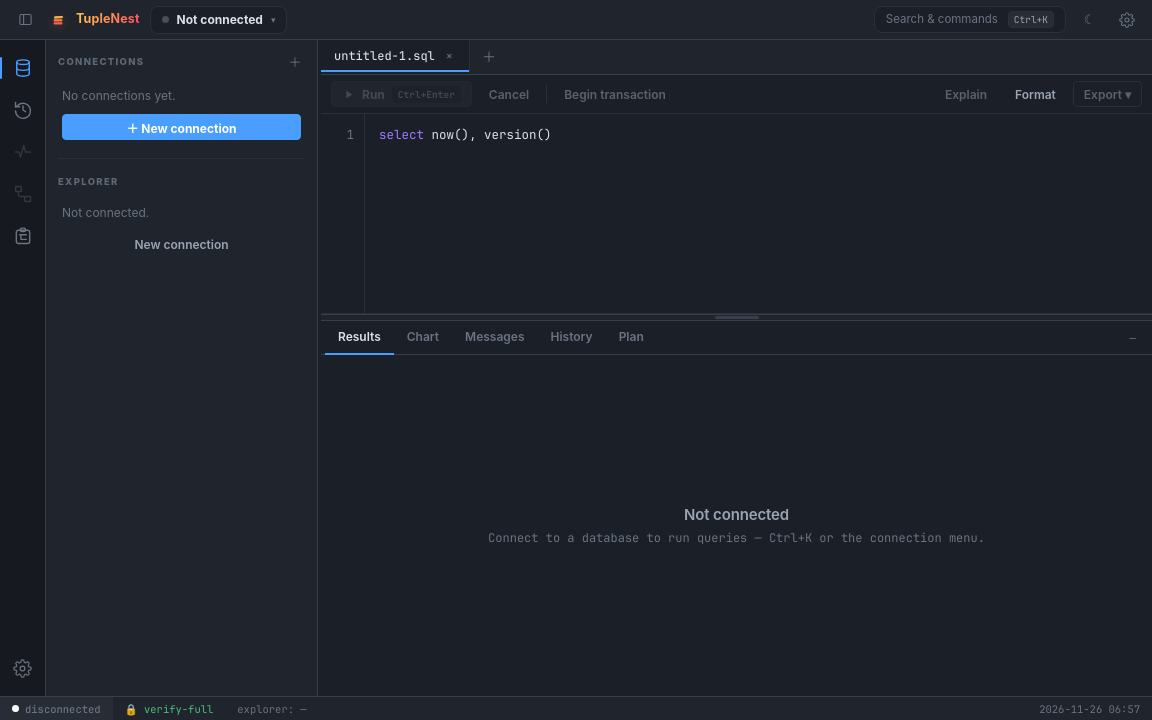
Scenario: App — the empty sidebar › goes straight to a new profile when there is nothing to connect to
Expected: the text "No connections yet." is shown, [62, 87, 175, 104]
# The explorer's own prompt, not the sidebar's.
Click the button "New connection" at [182, 244], box [62, 232, 301, 258]
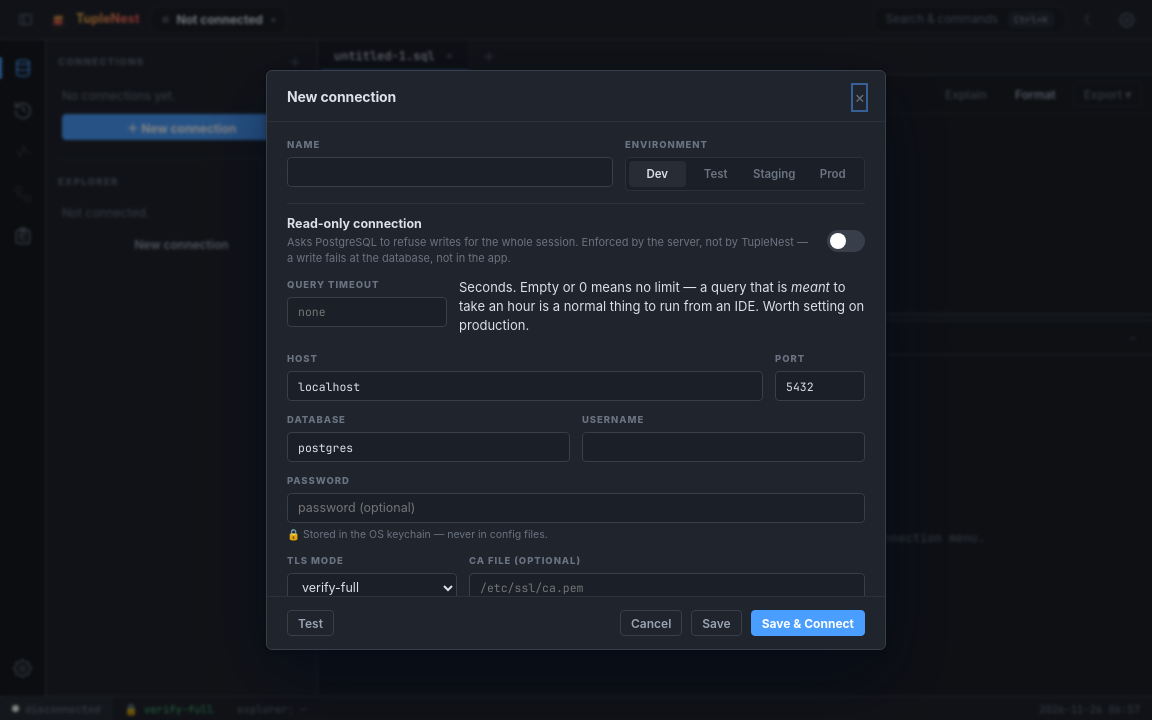
Result: the button "Save & Connect" is shown at [751, 610, 865, 636]
